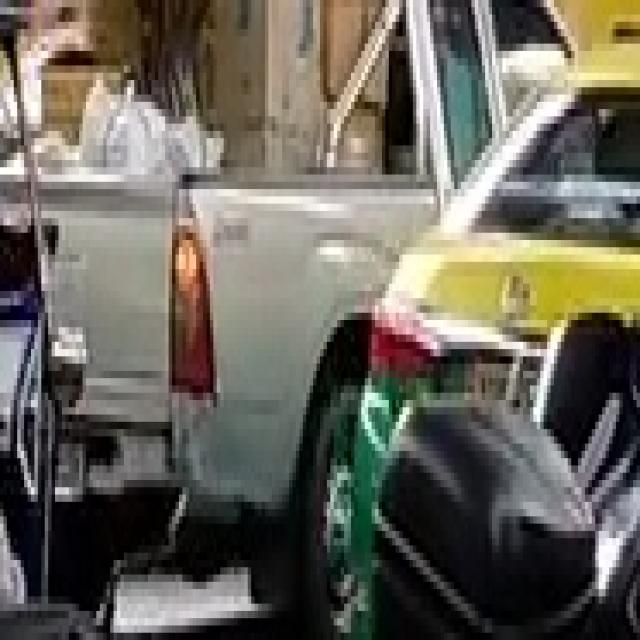helmet: (372, 392, 598, 632)
